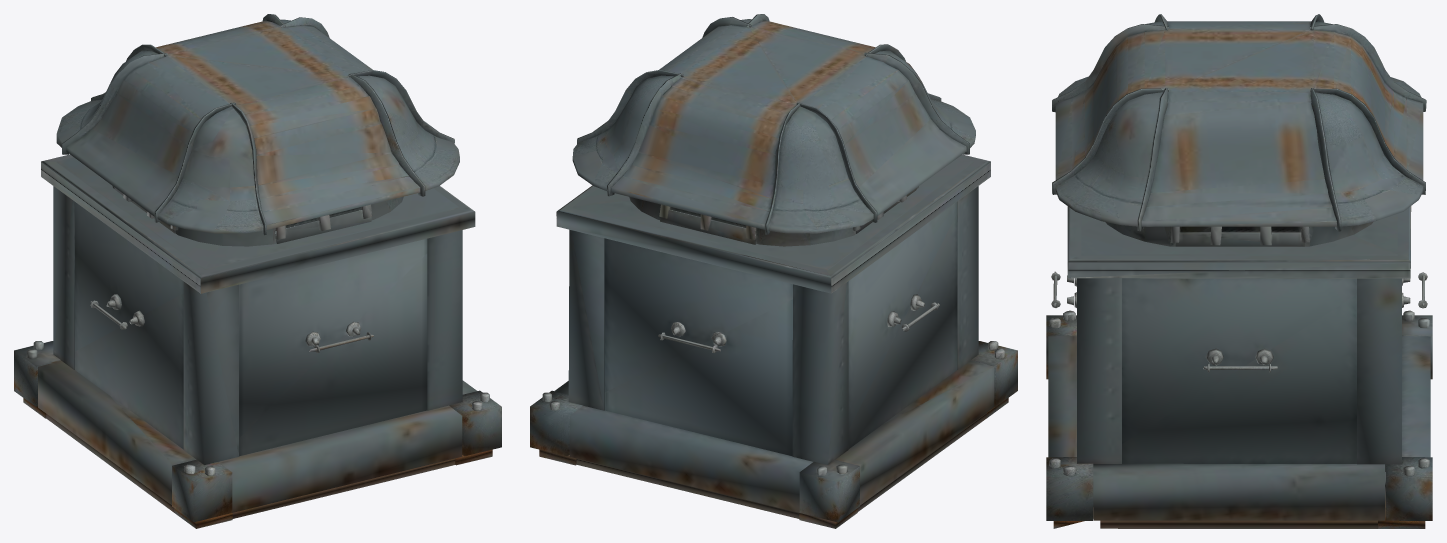
Rendered from roof_ventilator.glb.
The picture shows the model from 3 angles, left to right: view 1: azimuth 30°, elevation 25°; view 2: azimuth 150°, elevation 25°; view 3: azimuth 270°, elevation 25°; orthographic projection. The views are drawn at different scales.
Size of the model in its own units: 1.41 by 1.6 by 1.42.
Materials: 1 (1 with a texture image).
